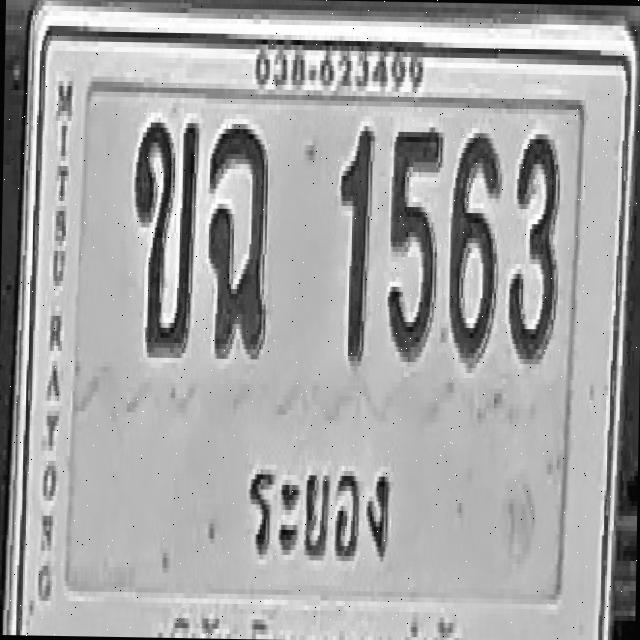1: (336, 122, 373, 364)
11KhorKhai: (132, 117, 198, 353)
18ChorChing: (206, 123, 268, 354)
3: (506, 130, 560, 362)
5: (387, 123, 442, 360)
6: (448, 130, 500, 360)
Rayong: (234, 438, 401, 584)
